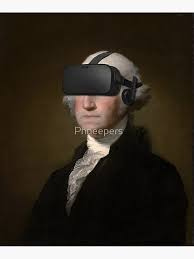oculus: (61, 61, 138, 97)
